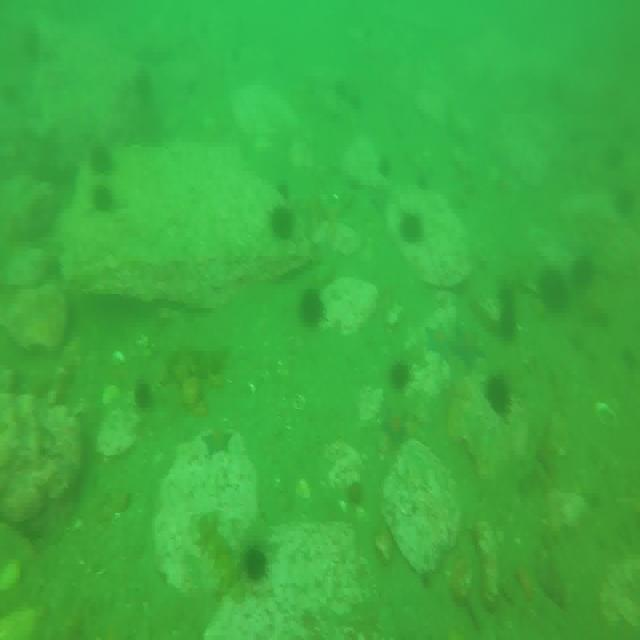echinus: (488, 370, 512, 419), (540, 268, 567, 310), (135, 378, 160, 415), (246, 543, 268, 583), (297, 290, 326, 320), (399, 212, 423, 246), (90, 182, 115, 214), (271, 204, 296, 236), (575, 260, 598, 289), (499, 308, 517, 342), (392, 359, 411, 389), (92, 144, 111, 171)
starfish: (451, 323, 484, 369), (204, 420, 236, 464), (425, 321, 452, 360), (382, 412, 409, 449)
